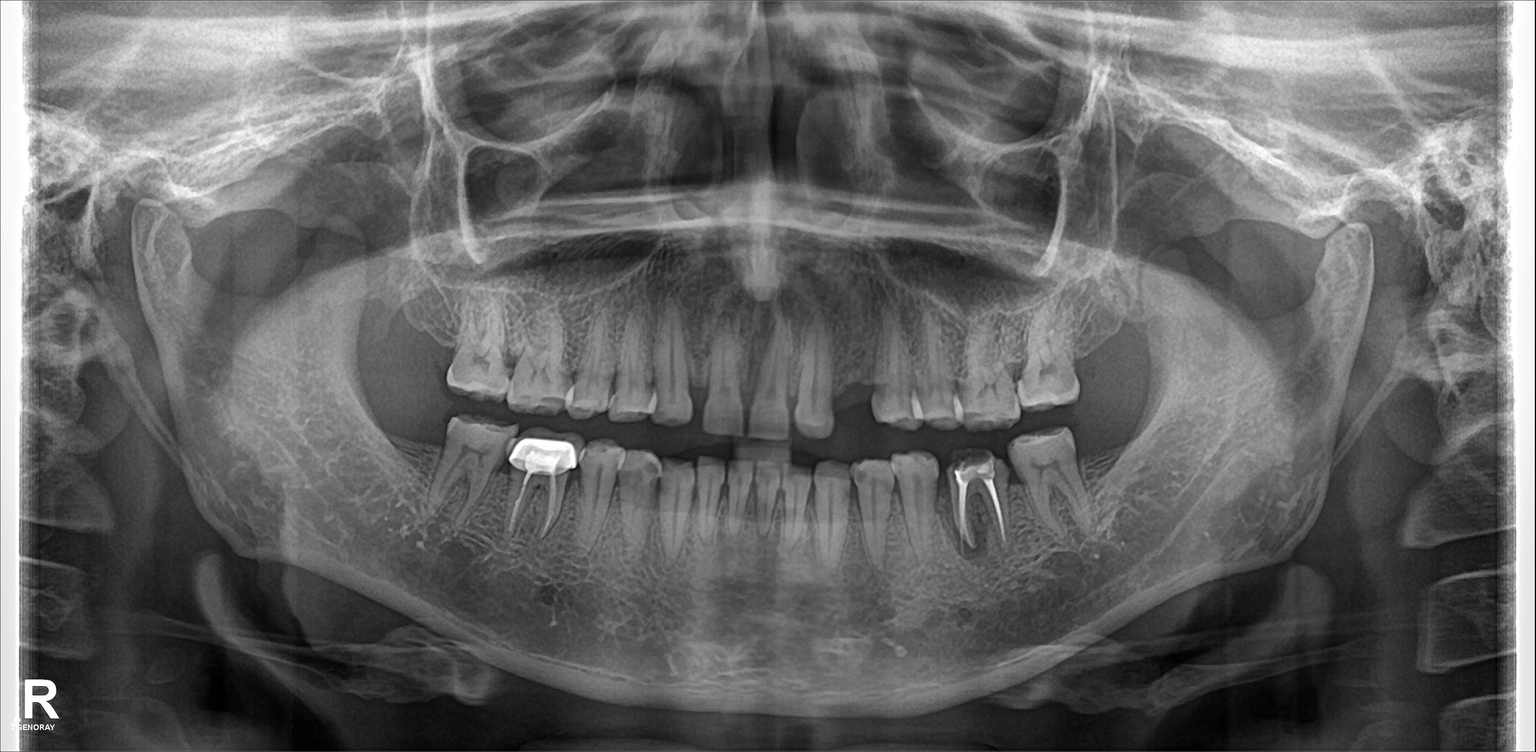Endodontically Treated Tooth: (508, 434, 571, 553), (946, 456, 1006, 557)
Missing Tooth: (1073, 285, 1129, 414), (838, 303, 878, 419), (365, 285, 401, 408), (1093, 434, 1144, 517), (408, 294, 444, 405), (400, 428, 444, 508)
